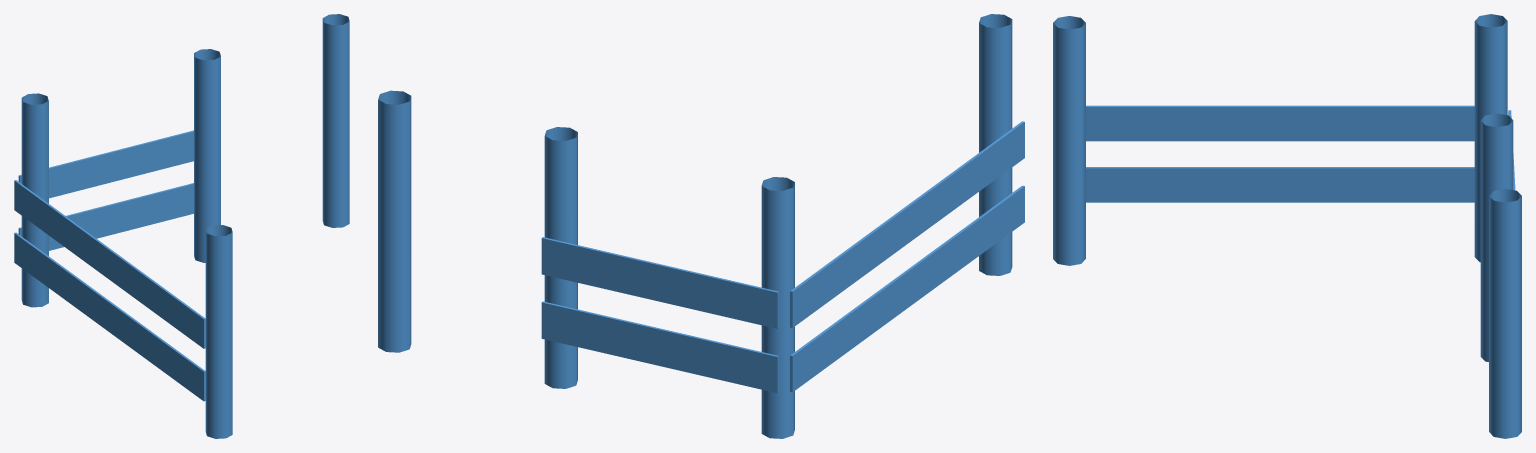
File: Scraper Winch barrier.fbx
The picture shows the model from 3 angles, left to right: view 1: azimuth 30°, elevation 25°; view 2: azimuth 150°, elevation 25°; view 3: azimuth 270°, elevation 25°; orthographic projection. The views are drawn at different scales.
Parts seen in each view (by area): view 1: Cylinder.083; view 2: Cylinder.083; view 3: Cylinder.083.
Boxes of the visible parts, box(x1,y1,x2,y2) form: Cylinder.083: box(14, 14, 349, 438); Cylinder.083: box(378, 14, 1024, 438); Cylinder.083: box(1053, 14, 1521, 438).
Size of the model in its own units: 266 by 153 by 276.
